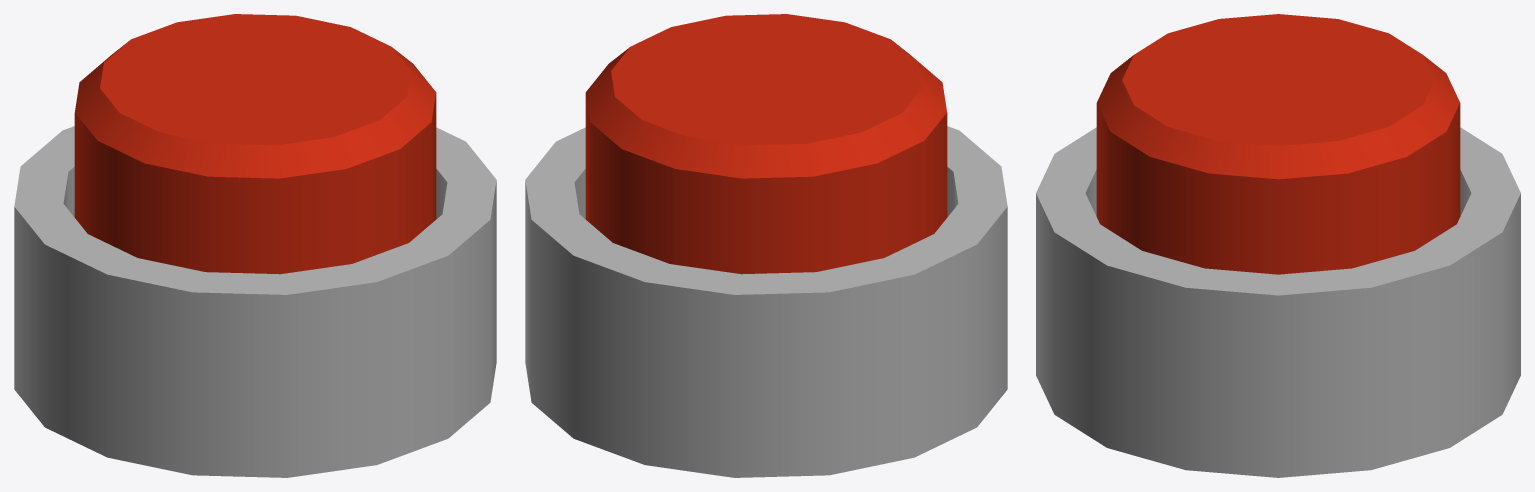
The model's file is EN_Red_Button_V01.fbx.
3 views of the same model, side by side, from view 1: azimuth 30°, elevation 25°; view 2: azimuth 150°, elevation 25°; view 3: azimuth 270°, elevation 25° (orthographic).
Parts seen in each view (by area): view 1: GEO_Red_Button_Holder, GEO_Red_Button; view 2: GEO_Red_Button_Holder, GEO_Red_Button; view 3: GEO_Red_Button_Holder, GEO_Red_Button.
Part boxes in pixels (x1,y1,x2,y2): GEO_Red_Button_Holder: (14, 126, 496, 477); GEO_Red_Button: (74, 14, 436, 274); GEO_Red_Button_Holder: (525, 126, 1007, 477); GEO_Red_Button: (585, 14, 947, 274); GEO_Red_Button_Holder: (1036, 127, 1520, 477); GEO_Red_Button: (1096, 14, 1460, 274).
Bounding box in the file's own units: 10.1 × 6.79 × 10.1.
Materials: 1 (1 with a texture image).
